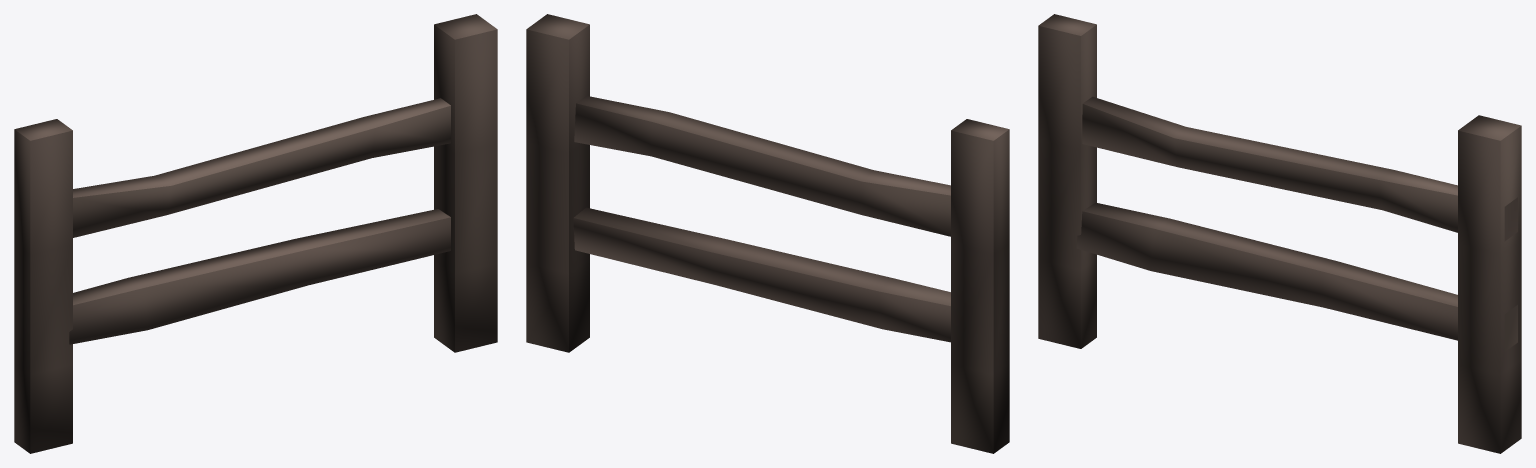
The model's file is furnishings-barriers-woodenfence_v2.glb.
3 renders of one model, left to right at view 1: azimuth 30°, elevation 25°; view 2: azimuth 150°, elevation 25°; view 3: azimuth 330°, elevation 25°, orthographic.
Parts seen in each view (by area): view 1: WoodenFence_v2; view 2: WoodenFence_v2; view 3: WoodenFence_v2.
Boxes of the visible parts, left/top/right/bottom form: WoodenFence_v2: left=14, top=14, right=497, bottom=453; WoodenFence_v2: left=526, top=14, right=1009, bottom=453; WoodenFence_v2: left=1038, top=14, right=1521, bottom=453.
Bounding box in the file's own units: 2.21 × 1.43 × 0.1741.
